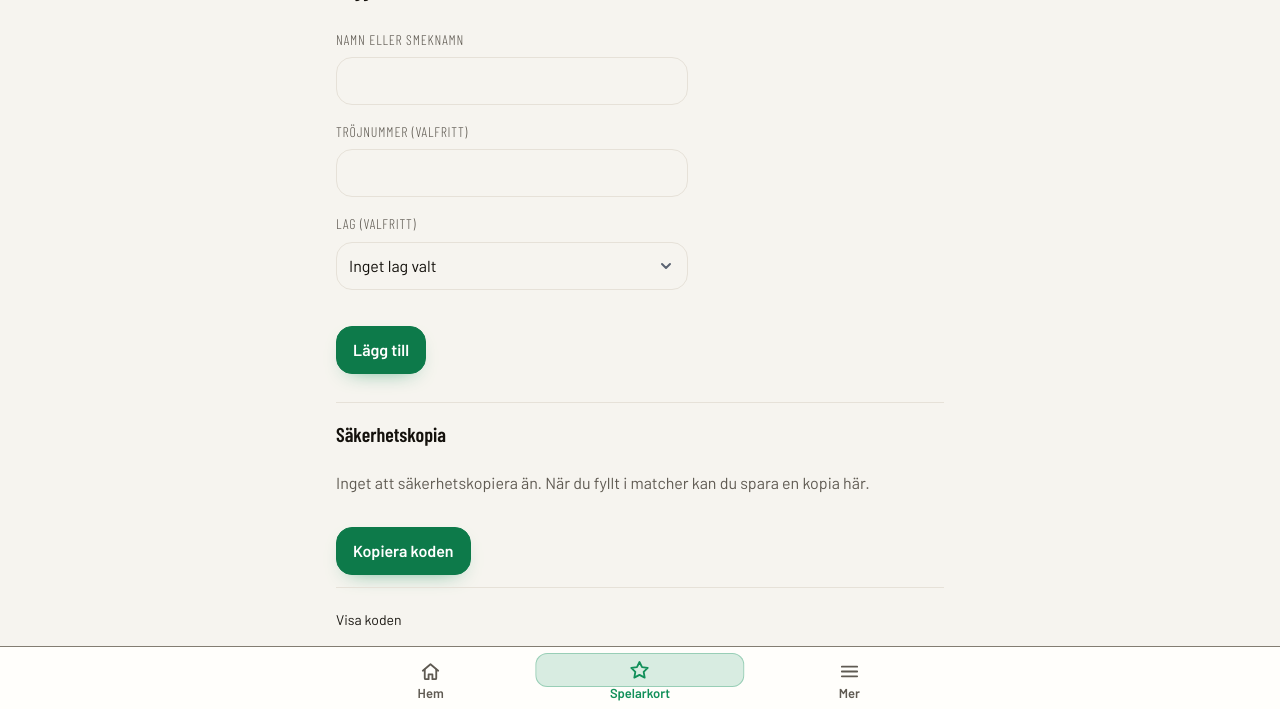
Scenario: lägga till barn › kräver att fältet inte är tomt
This screenshot has width=1280, height=709.
(page scrolled)
Click the button "Lägg till": (381, 350) x1=336 y1=326 x2=426 y2=374
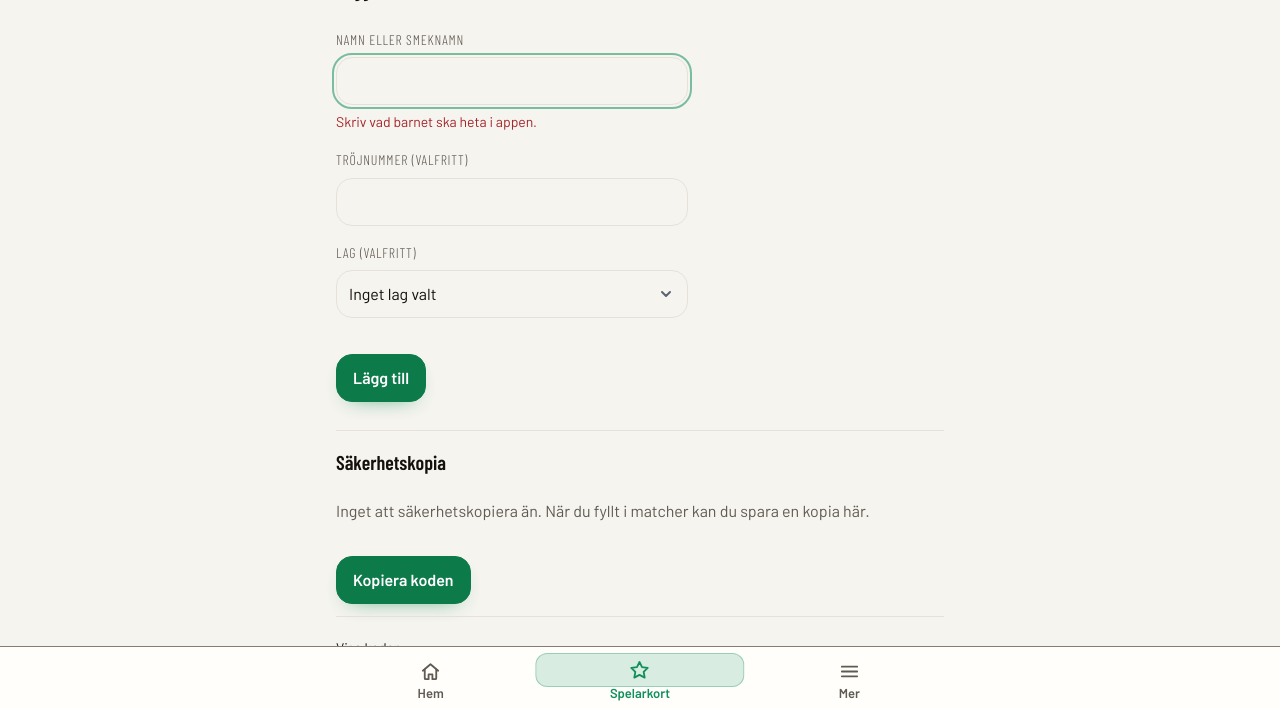
Now the text "Skriv vad barnet ska heta i appen." is shown, box x1=336 y1=113 x2=537 y2=130
